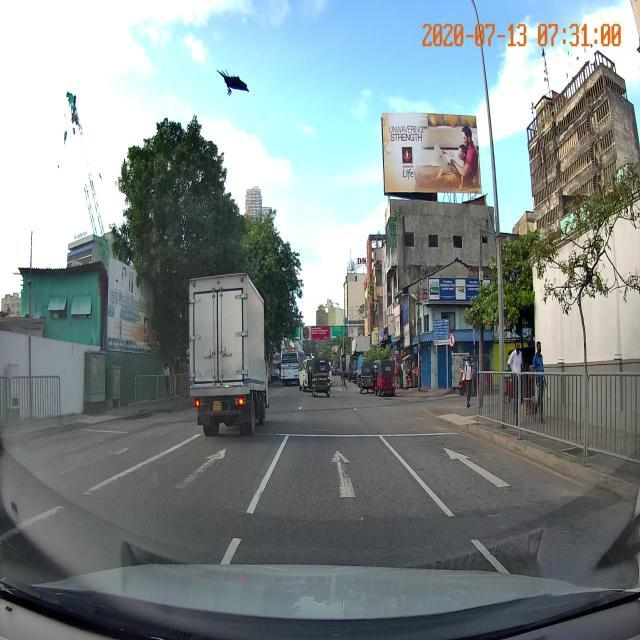forward: (255, 443, 438, 497)
